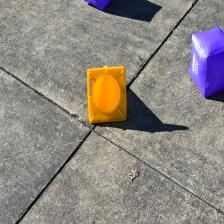cone: (87, 65, 127, 124)
cube: (188, 25, 224, 98), (85, 0, 113, 12)
